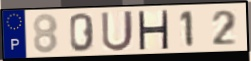0: (69, 11, 95, 54)
1: (178, 10, 196, 48)
2: (211, 9, 239, 48)
8: (32, 12, 60, 55)
H: (136, 10, 170, 50)
U: (100, 9, 135, 53)
